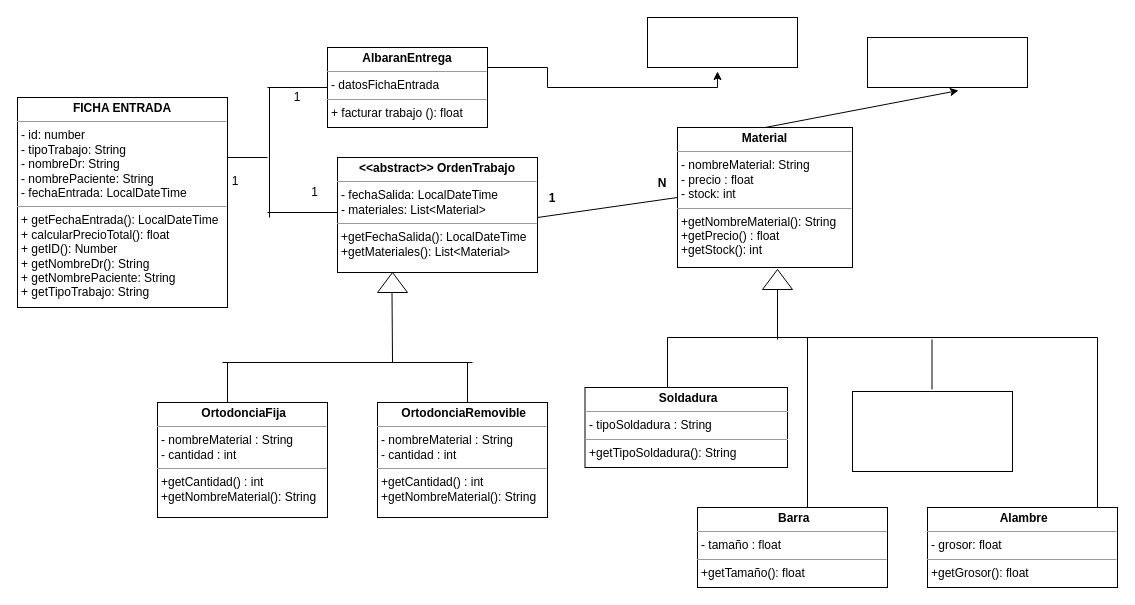
Image size: 1135x605. Some labels were removed from this diagram. The shapes that lost their labels are listed below. From the top down, each one's box as (x1, y1, x2, y2) in pixels, then its label:
(646, 16, 798, 68): «interface» BD sistema gestion Clientes
(866, 36, 1028, 88): «interface» BD sistema gestion Materiales
(852, 390, 1012, 472): Tornillo - expansion: String +getExpansionl(): String
